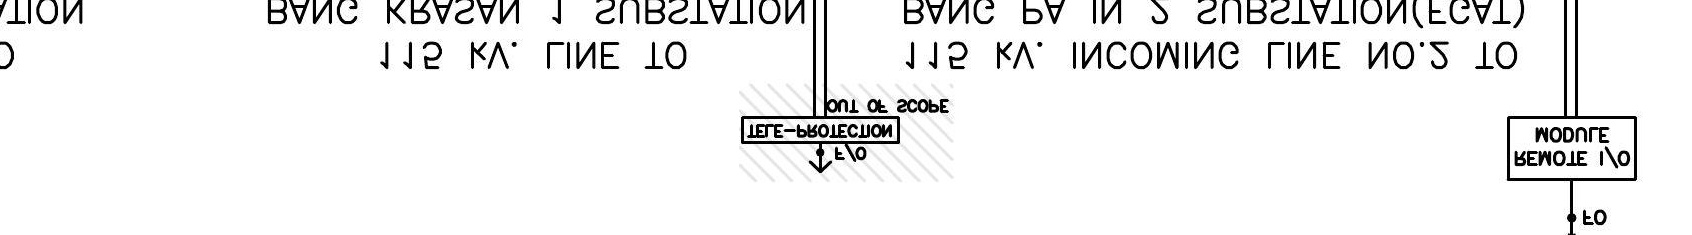remote_io_module: (1506, 115, 1637, 181)
tele_protection: (740, 115, 901, 144)
